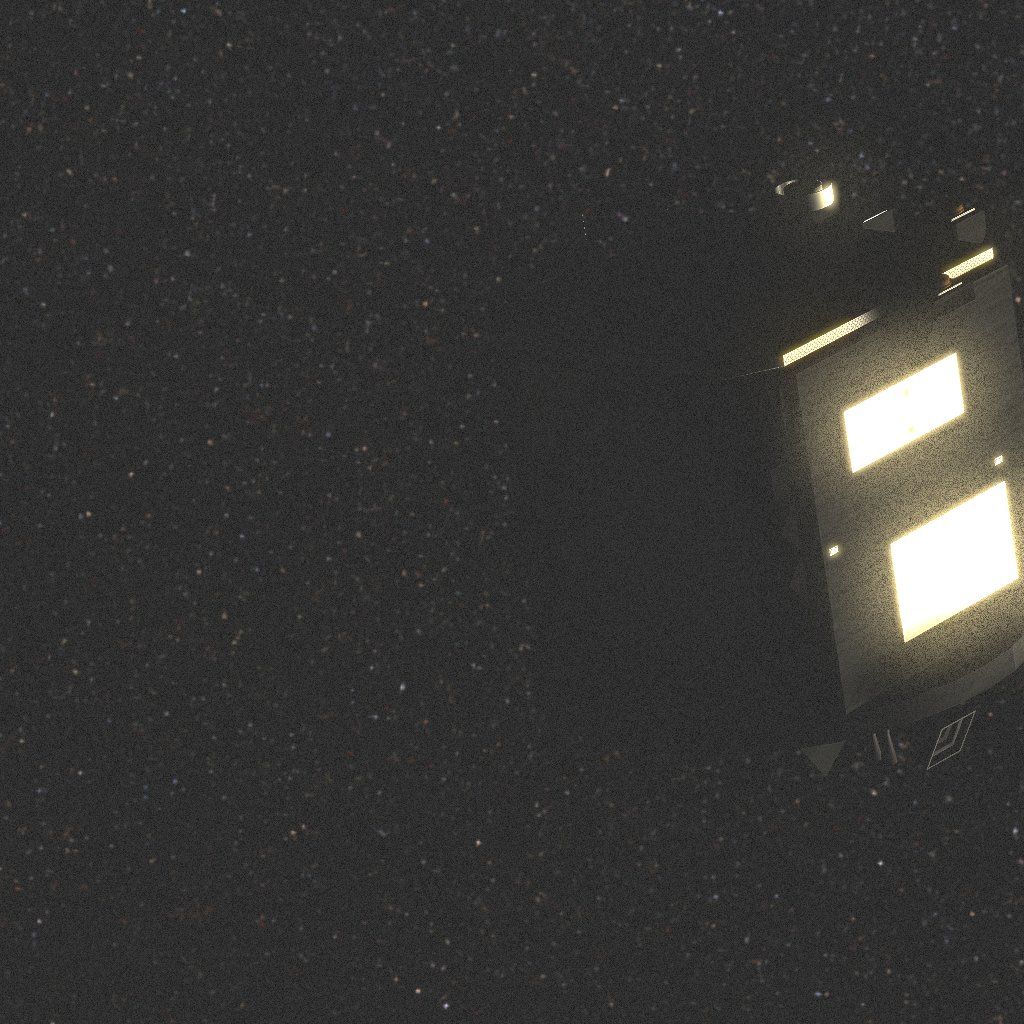proba_3_ocs: (488, 177, 1024, 776)
